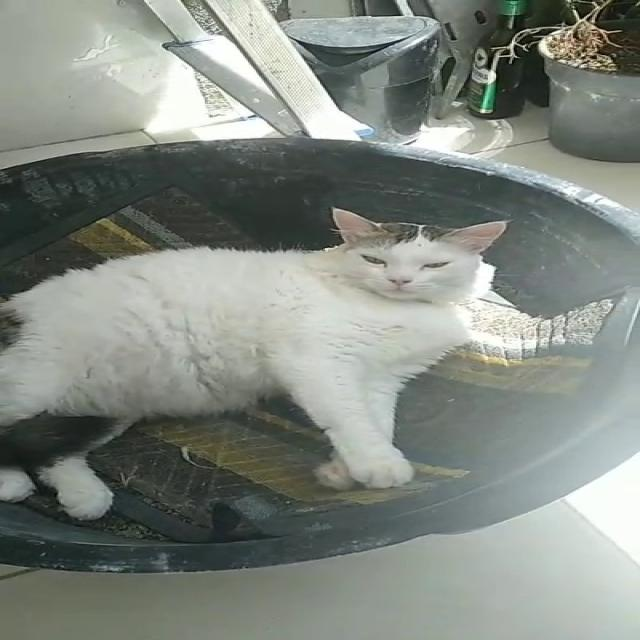Simba: (3, 182, 533, 581)
